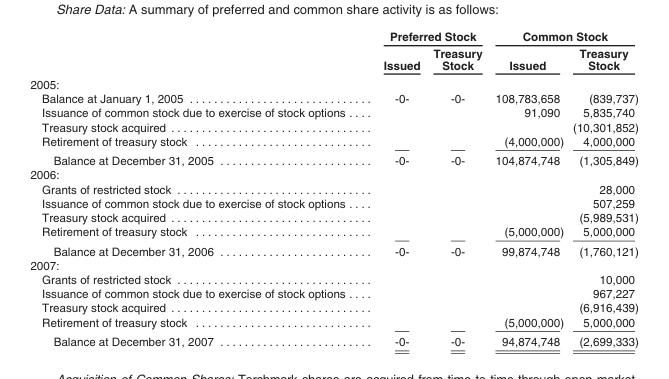table: (29, 28, 637, 347)
table column: (29, 28, 363, 347), (488, 28, 567, 347), (567, 28, 637, 347), (363, 28, 426, 347), (426, 28, 488, 347)
table column header: (29, 28, 637, 74)
table projected row header: (29, 74, 637, 90), (29, 167, 637, 181), (29, 257, 637, 271)
table row: (29, 44, 637, 74), (29, 133, 637, 150), (29, 150, 637, 167), (29, 240, 637, 257), (29, 314, 637, 331), (29, 28, 637, 44), (29, 74, 637, 90), (29, 224, 637, 240), (29, 331, 637, 347), (29, 90, 637, 105), (29, 209, 637, 224), (29, 271, 637, 286), (29, 105, 637, 119), (29, 119, 637, 133), (29, 167, 637, 181), (29, 181, 637, 195), (29, 195, 637, 209), (29, 257, 637, 271), (29, 286, 637, 300), (29, 300, 637, 314)
table spanning cell: (488, 28, 637, 44), (363, 28, 488, 44)
